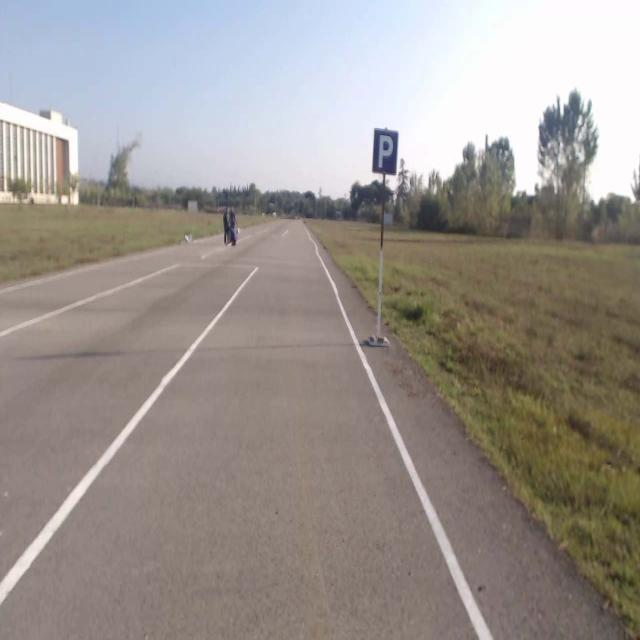park: (372, 128, 398, 175)
